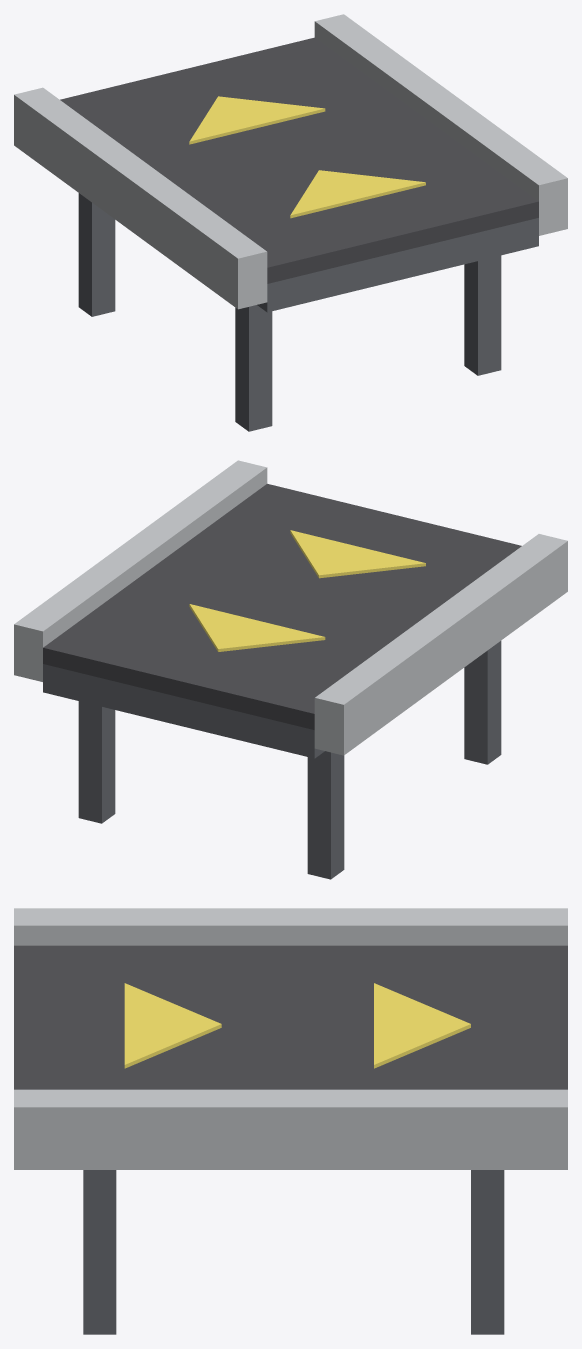
The model's file is Conveyor_Belt.fbx.
3 views of the same model, one above another, from view 1: azimuth 30°, elevation 25°; view 2: azimuth 150°, elevation 25°; view 3: azimuth 270°, elevation 25° (orthographic). The views are drawn at different scales.
Visible parts, largest first — view 1: Conveyor_Belt; view 2: Conveyor_Belt; view 3: Conveyor_Belt.
Boxes of the visible parts, x1,y1,x2,y2 form: Conveyor_Belt: [14, 14, 567, 431]; Conveyor_Belt: [14, 460, 567, 879]; Conveyor_Belt: [14, 908, 567, 1334].
Size of the model in its own units: 1.7 by 1 by 2.
